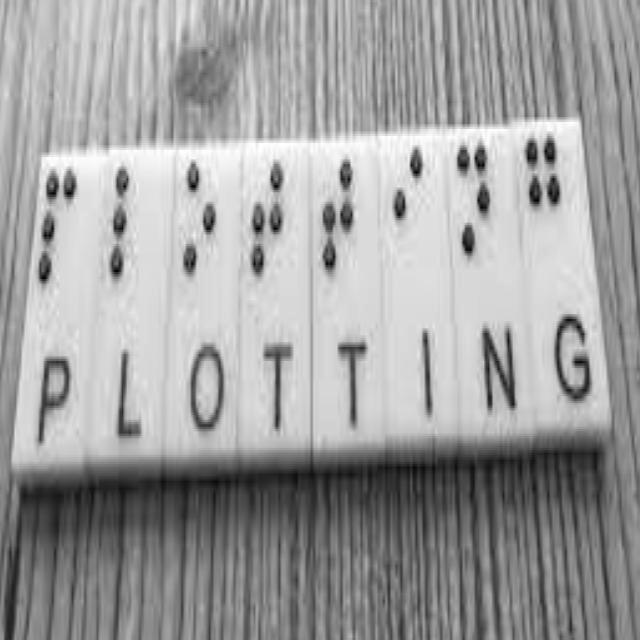braiile: (449, 130, 511, 298), (520, 124, 585, 281), (383, 139, 442, 307), (29, 158, 86, 305), (99, 153, 152, 307), (244, 143, 294, 305), (315, 147, 364, 307), (175, 149, 224, 307)
